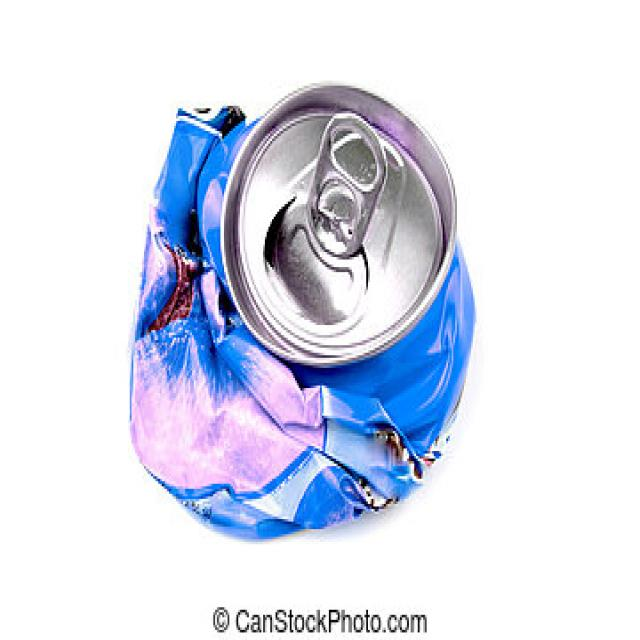non-organic waste: (109, 61, 502, 543)
